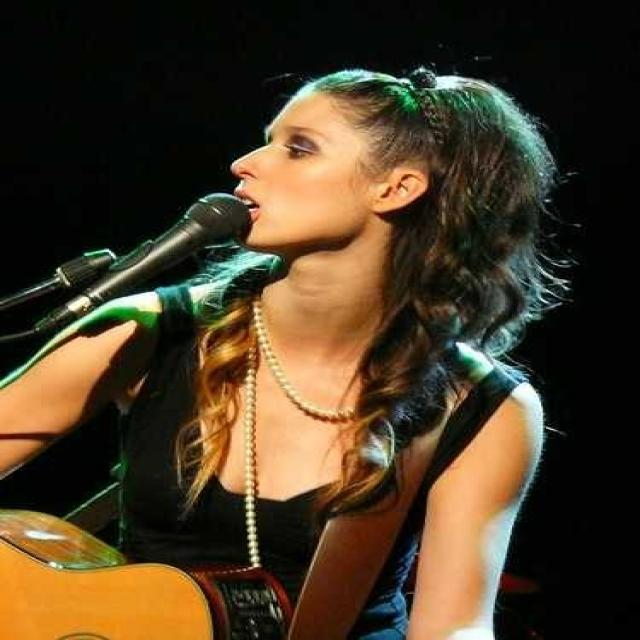microphone: (30, 193, 258, 329)
